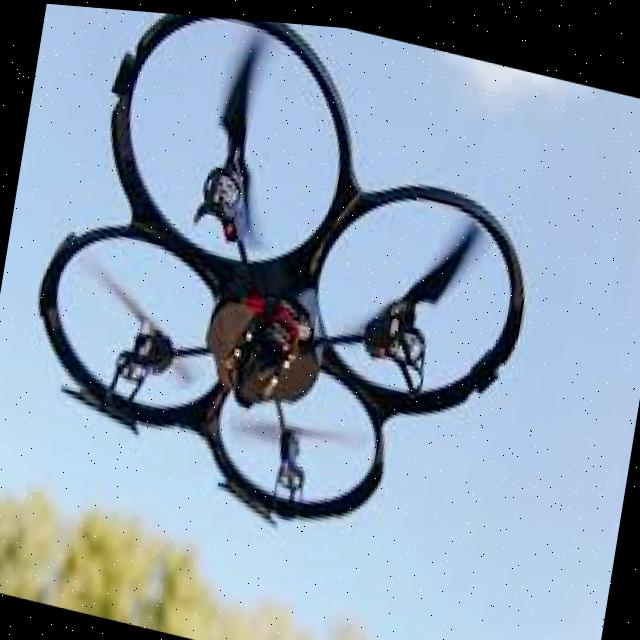drone: (0, 0, 574, 595)
